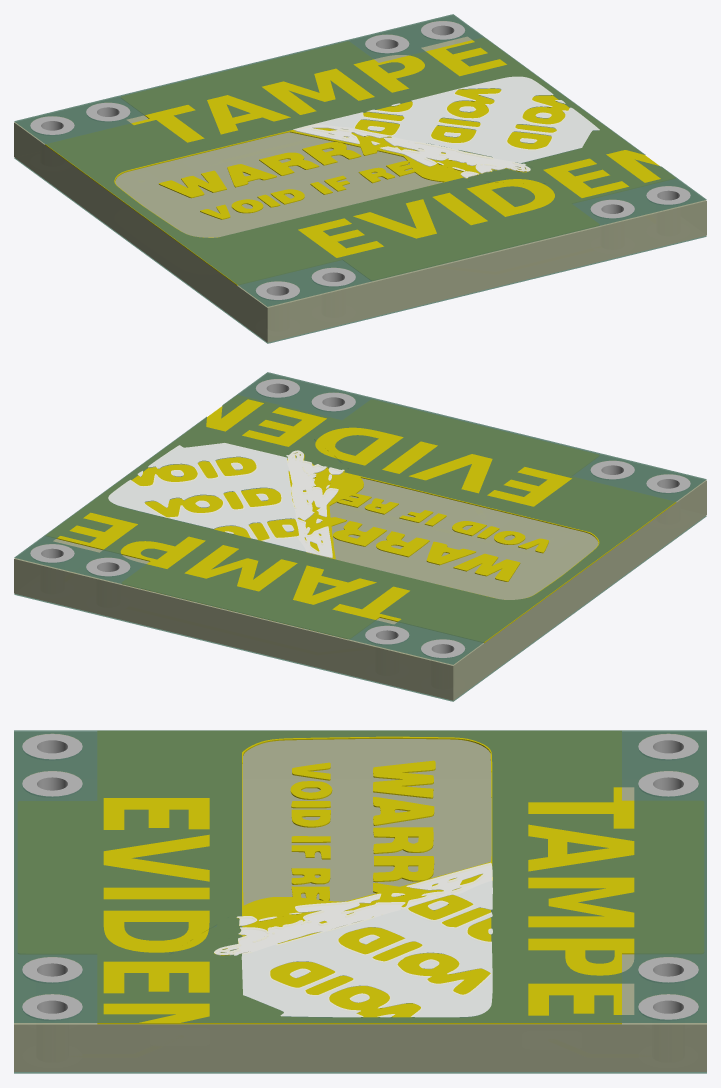
The model's file is tamper-evident-minibadge-v2.glb.
The picture shows the model from 3 angles, top to bottom: view 1: azimuth 30°, elevation 25°; view 2: azimuth 150°, elevation 25°; view 3: azimuth 270°, elevation 25°; orthographic projection. The views are drawn at different scales.
Visible parts, largest first — view 1: =>[0:1:1:2], =>[0:1:1:6], =>[0:1:1:8], =>[0:1:1:4]; view 2: =>[0:1:1:2], =>[0:1:1:6], =>[0:1:1:8], =>[0:1:1:4]; view 3: =>[0:1:1:2], =>[0:1:1:6], =>[0:1:1:8], =>[0:1:1:4].
Part boxes in pixels (x1,y1,x2,y2): =>[0:1:1:2]: [30, 21, 690, 300]; =>[0:1:1:6]: [14, 14, 706, 343]; =>[0:1:1:8]: [14, 16, 706, 342]; =>[0:1:1:4]: [293, 76, 599, 177]; =>[0:1:1:2]: [30, 379, 690, 658]; =>[0:1:1:6]: [14, 372, 706, 701]; =>[0:1:1:8]: [14, 374, 706, 700]; =>[0:1:1:4]: [108, 443, 344, 557]; =>[0:1:1:2]: [18, 731, 703, 1024]; =>[0:1:1:6]: [14, 730, 706, 1073]; =>[0:1:1:8]: [14, 732, 706, 1071]; =>[0:1:1:4]: [214, 862, 492, 1017].
Bounding box in the file's own units: 0.02 × 0.00166 × 0.02.
Materials: 4 (4 with a texture image).
